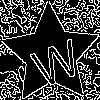W: (26, 29, 85, 90)
